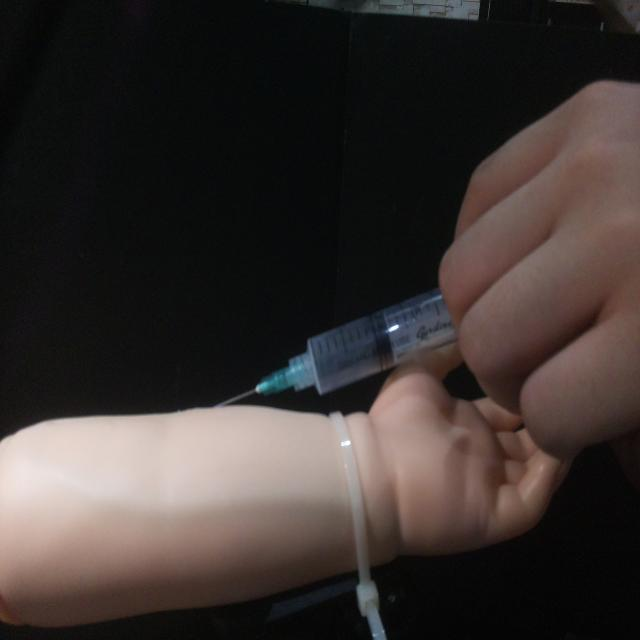19deg: (210, 282, 462, 411)
